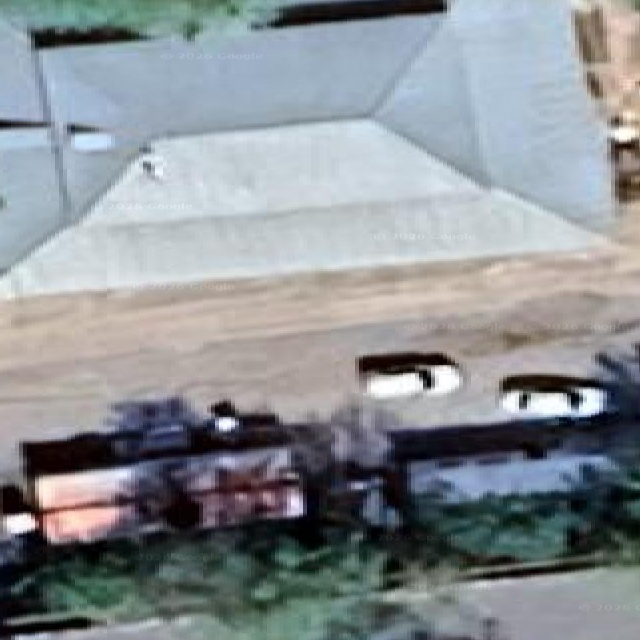car: (358, 353, 461, 399), (499, 375, 607, 417)
